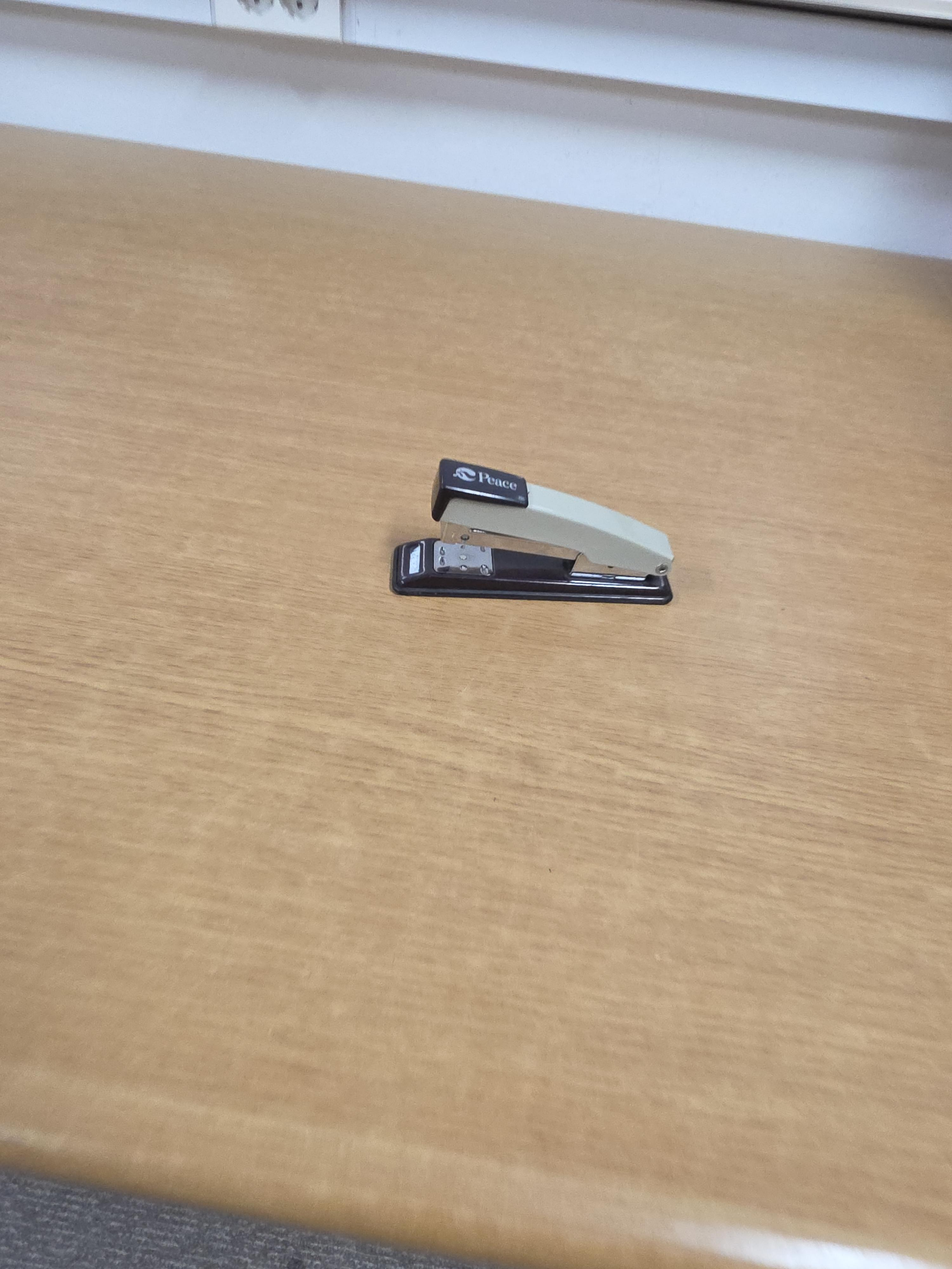stapler: (388, 457, 675, 605)
